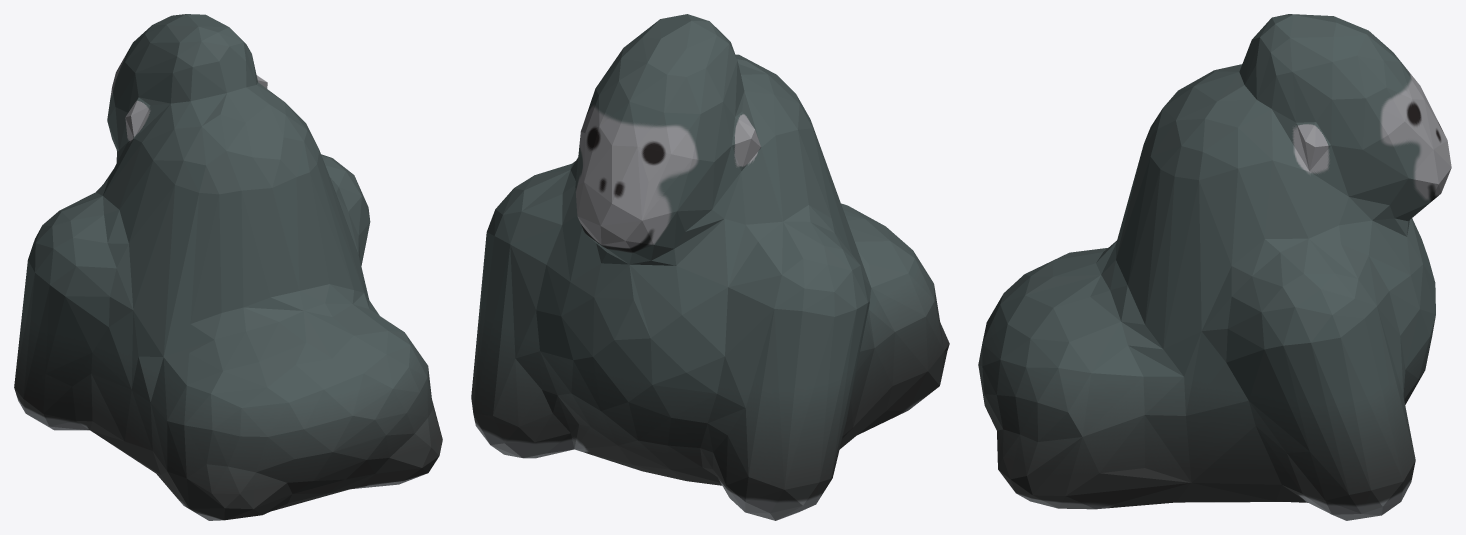
Rendered from animal_gorilla_blob.obj.
3 renders of one model, left to right at view 1: azimuth 30°, elevation 25°; view 2: azimuth 150°, elevation 25°; view 3: azimuth 270°, elevation 25°, orthographic. The views are drawn at different scales.
Visible parts, largest first — view 1: animal_gorilla_blob; view 2: animal_gorilla_blob; view 3: animal_gorilla_blob.
Boxes of the visible parts, x1,y1,x2,y2 form: animal_gorilla_blob: (14,14,442,520); animal_gorilla_blob: (471,14,949,520); animal_gorilla_blob: (978,14,1451,520).
Bounding box in the file's own units: 1.18 × 1.42 × 1.35.
